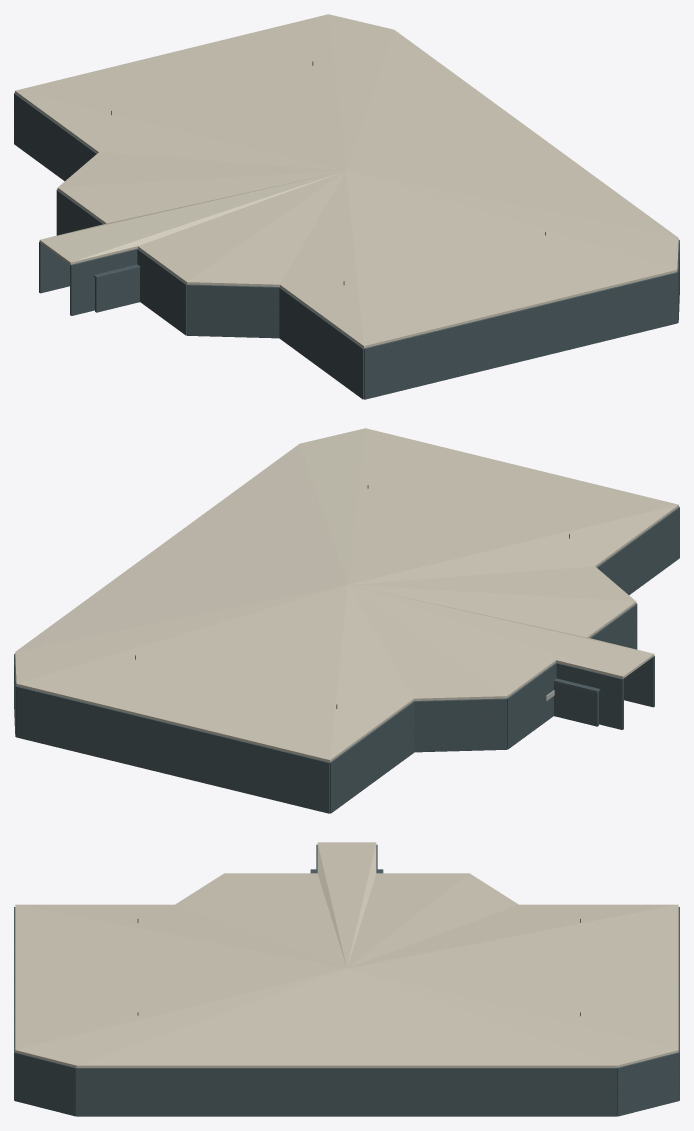
File: SOL_D02_directory_10_source001.glb
3 renders of one model, top to bottom at view 1: azimuth 30°, elevation 25°; view 2: azimuth 150°, elevation 25°; view 3: azimuth 270°, elevation 25°, orthographic. The views are drawn at different scales.
Parts seen in each view (by area): view 1: Folded_roof_8, Folded_roof_4, Folded_roof_6, Enclosure_8, Folded_roof_3, Folded_roof_9, Folded_roof_1, Folded_roof_11, Folded_roof_10, Folded_roof_7, Folded_roof_5, Folded_roof_2 (+10 smaller); view 2: Folded_roof_4, Folded_roof_8, Folded_roof_6, Enclosure_4, Folded_roof_9, Folded_roof_3, Folded_roof_11, Folded_roof_1, Folded_roof_2, Folded_roof_5, Folded_roof_7, Folded_roof_10 (+10 smaller); view 3: Folded_roof_6, Enclosure_6, Folded_roof_8, Folded_roof_4, Folded_roof_5, Folded_roof_7, Folded_roof_9, Folded_roof_3, Folded_roof_1, Folded_roof_11, Folded_roof_2, Folded_roof_10 (+5 smaller).
Boxes of the visible parts, x1,y1,x2,y2 form: Folded_roof_8: (346, 171, 677, 348); Folded_roof_4: (16, 14, 345, 170); Folded_roof_6: (346, 30, 677, 237); Enclosure_8: (364, 272, 677, 399); Folded_roof_3: (15, 90, 344, 170); Folded_roof_9: (280, 171, 363, 347); Folded_roof_1: (57, 171, 344, 223); Folded_roof_11: (138, 171, 345, 283); Folded_roof_10: (187, 171, 345, 286); Folded_roof_7: (347, 171, 678, 270); Folded_roof_5: (328, 14, 393, 169); Folded_roof_2: (58, 152, 345, 187); Folded_roof_4: (16, 585, 347, 762); Folded_roof_8: (348, 428, 677, 584); Folded_roof_6: (16, 444, 347, 651); Enclosure_4: (16, 686, 329, 813); Folded_roof_9: (349, 504, 678, 584); Folded_roof_3: (330, 585, 413, 761); Folded_roof_11: (349, 585, 636, 637); Folded_roof_1: (348, 585, 555, 697); Folded_roof_2: (348, 585, 506, 700); Folded_roof_5: (15, 585, 346, 684); Folded_roof_7: (300, 428, 365, 583); Folded_roof_10: (348, 566, 635, 601); Folded_roof_6: (76, 968, 617, 1067); Enclosure_6: (76, 1068, 617, 1116); Folded_roof_8: (15, 904, 346, 1049); Folded_roof_4: (347, 904, 678, 1049); Folded_roof_5: (348, 968, 678, 1067); Folded_roof_7: (15, 968, 345, 1067); Folded_roof_9: (16, 904, 344, 967); Folded_roof_3: (349, 904, 677, 967); Folded_roof_1: (347, 873, 469, 967); Folded_roof_11: (224, 873, 346, 967); Folded_roof_2: (348, 873, 518, 967); Folded_roof_10: (175, 873, 345, 967).
Bounding box in the file's own units: 43.1 × 5.35 × 54.2.
12 materials, 12 textured.
